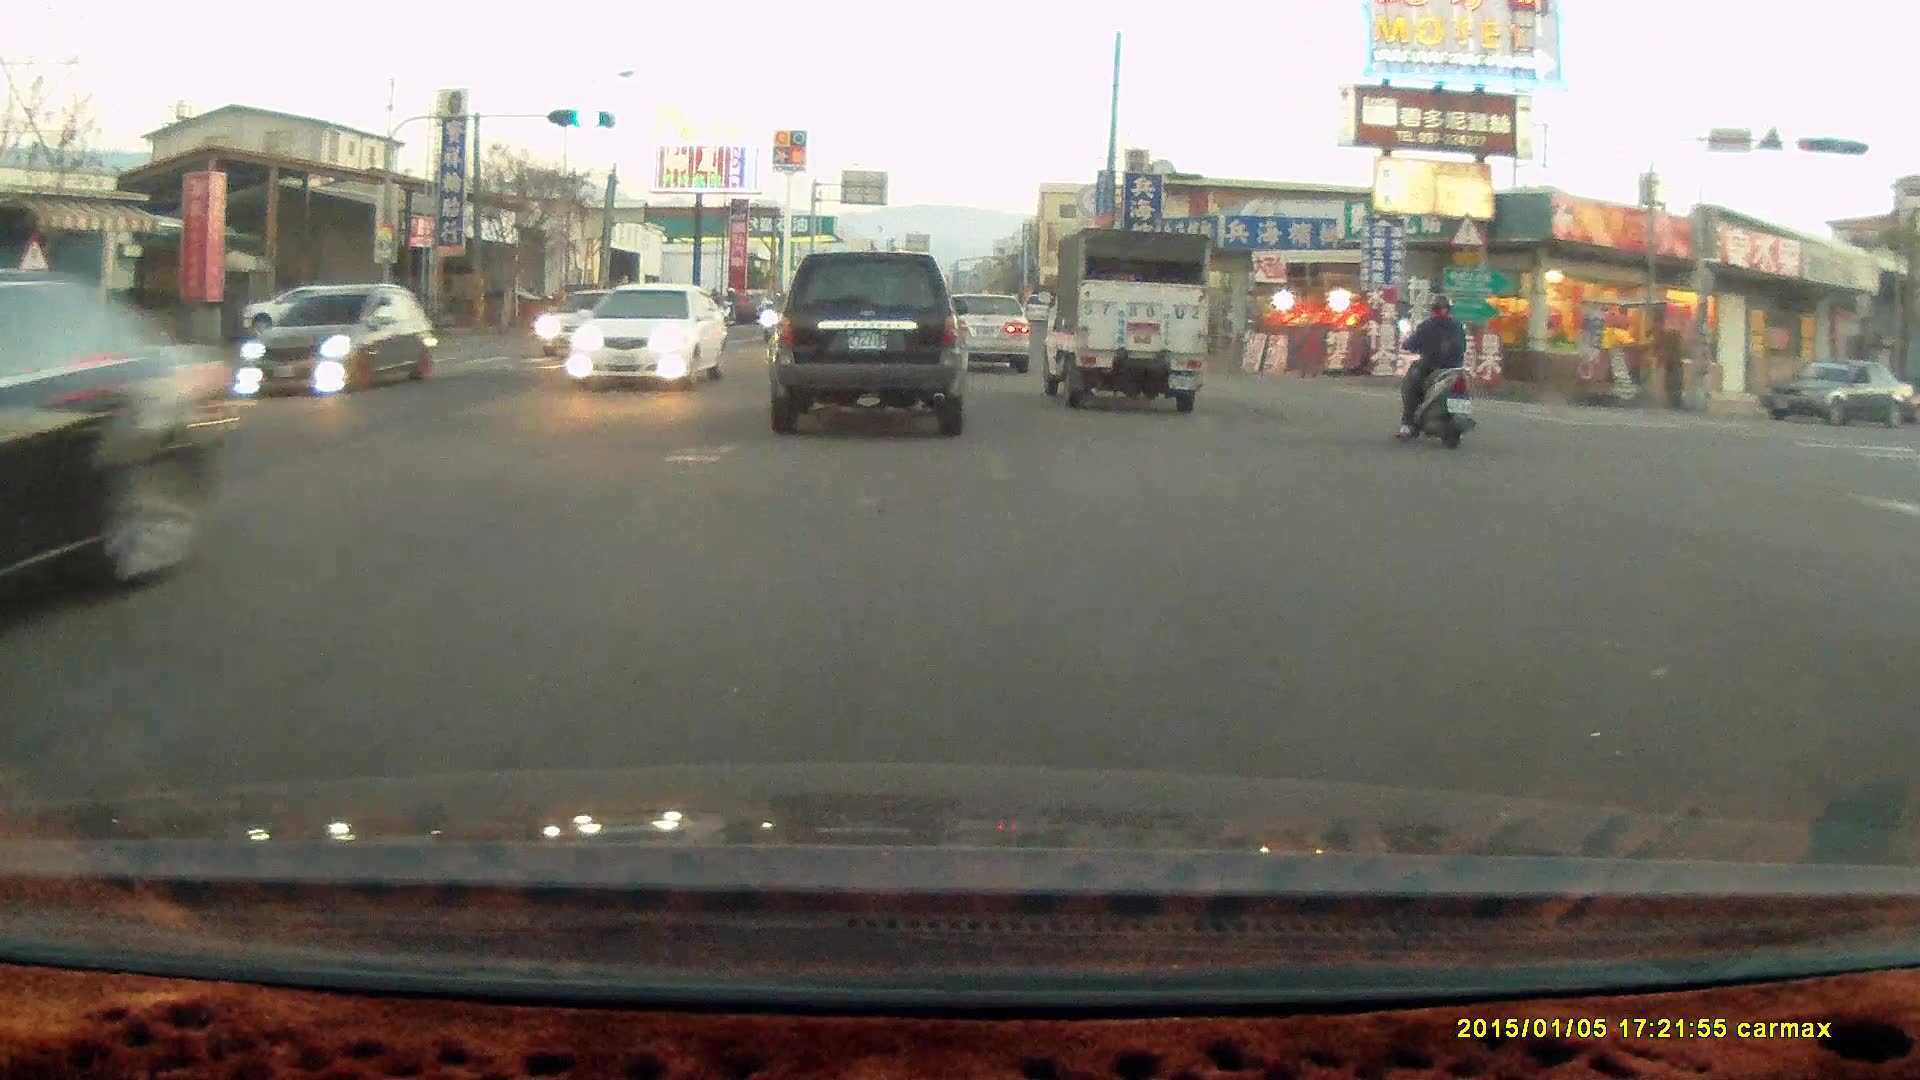rider: (1391, 289, 1477, 448)
vehicle: (1, 268, 227, 633), (767, 250, 970, 436), (1038, 226, 1210, 412), (237, 283, 441, 392), (570, 285, 730, 389), (1762, 360, 1914, 431), (540, 287, 654, 367), (931, 289, 1031, 375), (941, 293, 1035, 377), (243, 285, 380, 334)
